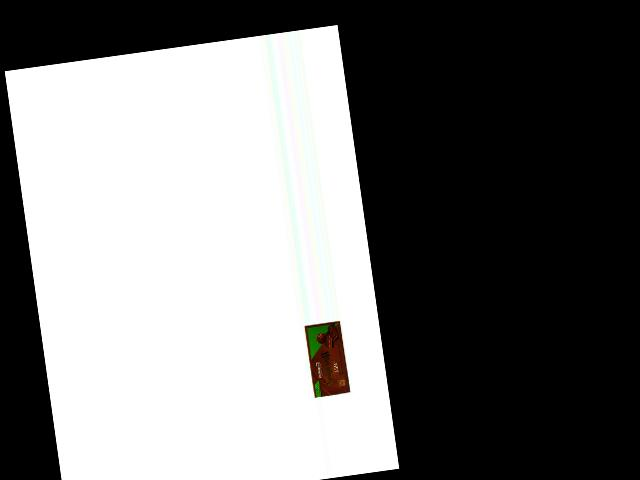chocolate: (303, 319, 354, 400)
